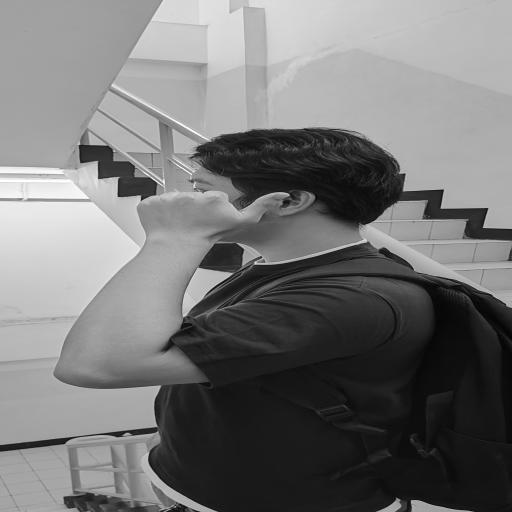back: (118, 181, 310, 249)
